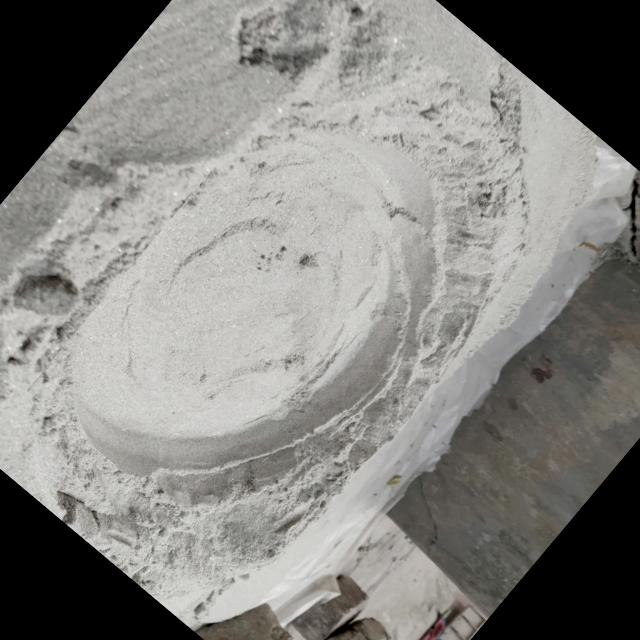C40: (76, 135, 436, 476)
